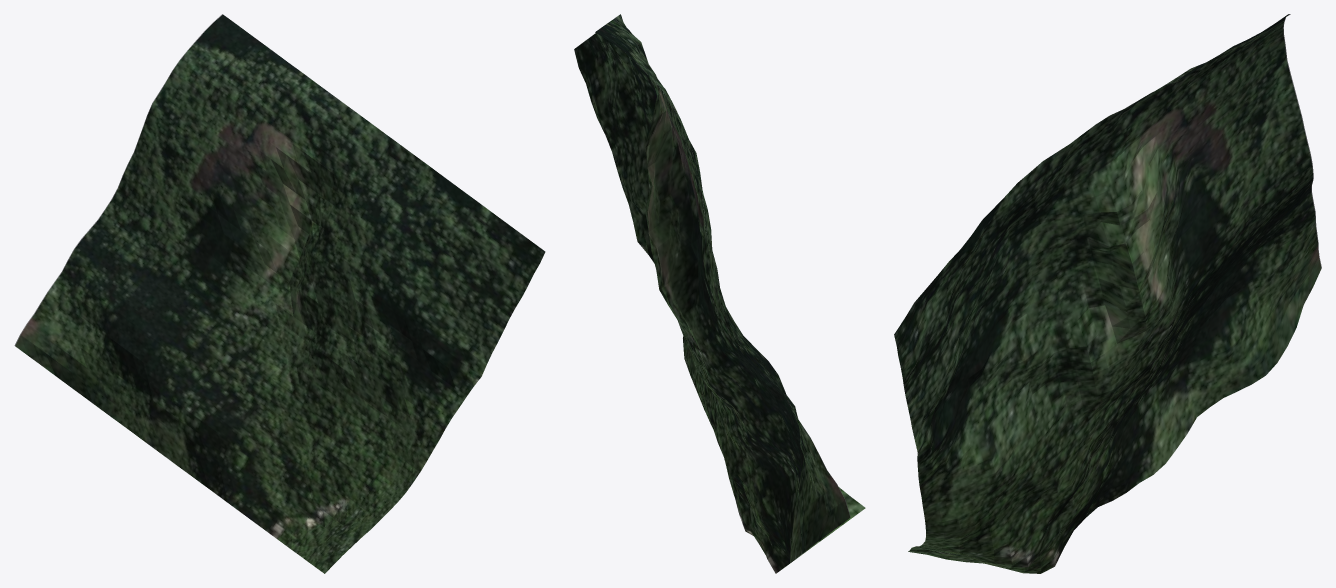
The picture shows the model from 3 angles, left to right: view 1: azimuth 30°, elevation 25°; view 2: azimuth 150°, elevation 25°; view 3: azimuth 270°, elevation 25°; orthographic projection. The views are drawn at different scales.
Bounding box in the file's own units: 1217 × 1438 × 958.
1 material, 1 textured.
